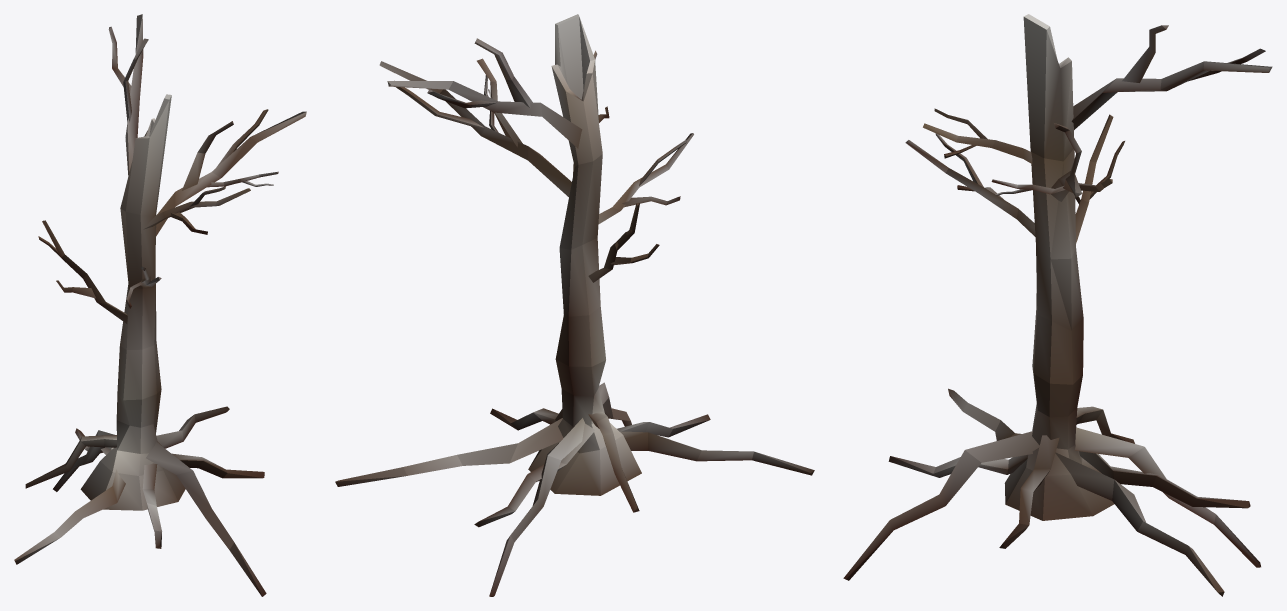
Rendered from sm_old_oak.fbx.
The picture shows the model from 3 angles, left to right: view 1: azimuth 30°, elevation 25°; view 2: azimuth 150°, elevation 25°; view 3: azimuth 270°, elevation 25°; orthographic projection. The views are drawn at different scales.
Visible parts, largest first — view 1: sm_old_oak; view 2: sm_old_oak; view 3: sm_old_oak.
Boxes of the visible parts, x1,y1,x2,y2 form: sm_old_oak: (14,14,306,596); sm_old_oak: (335,14,814,596); sm_old_oak: (843,14,1272,596).
Bounding box in the file's own units: 578 × 444 × 392.
